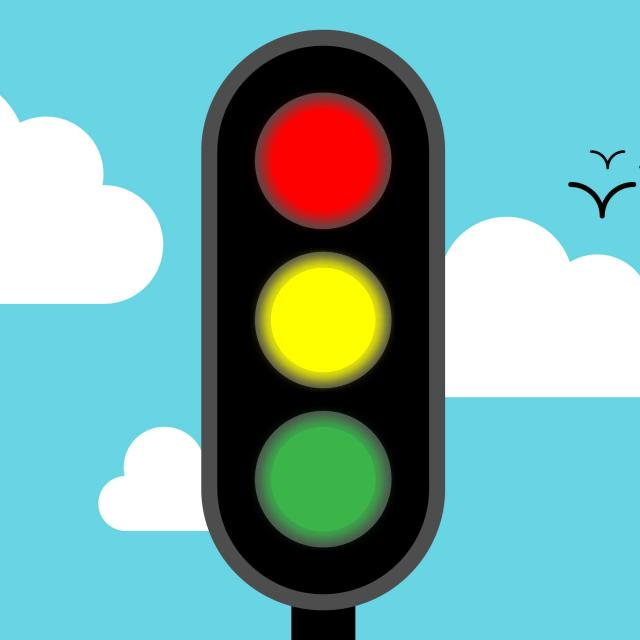green-lights: (240, 396, 412, 546)
red-lights: (266, 79, 402, 242)
yellow-lights: (242, 256, 402, 383)
